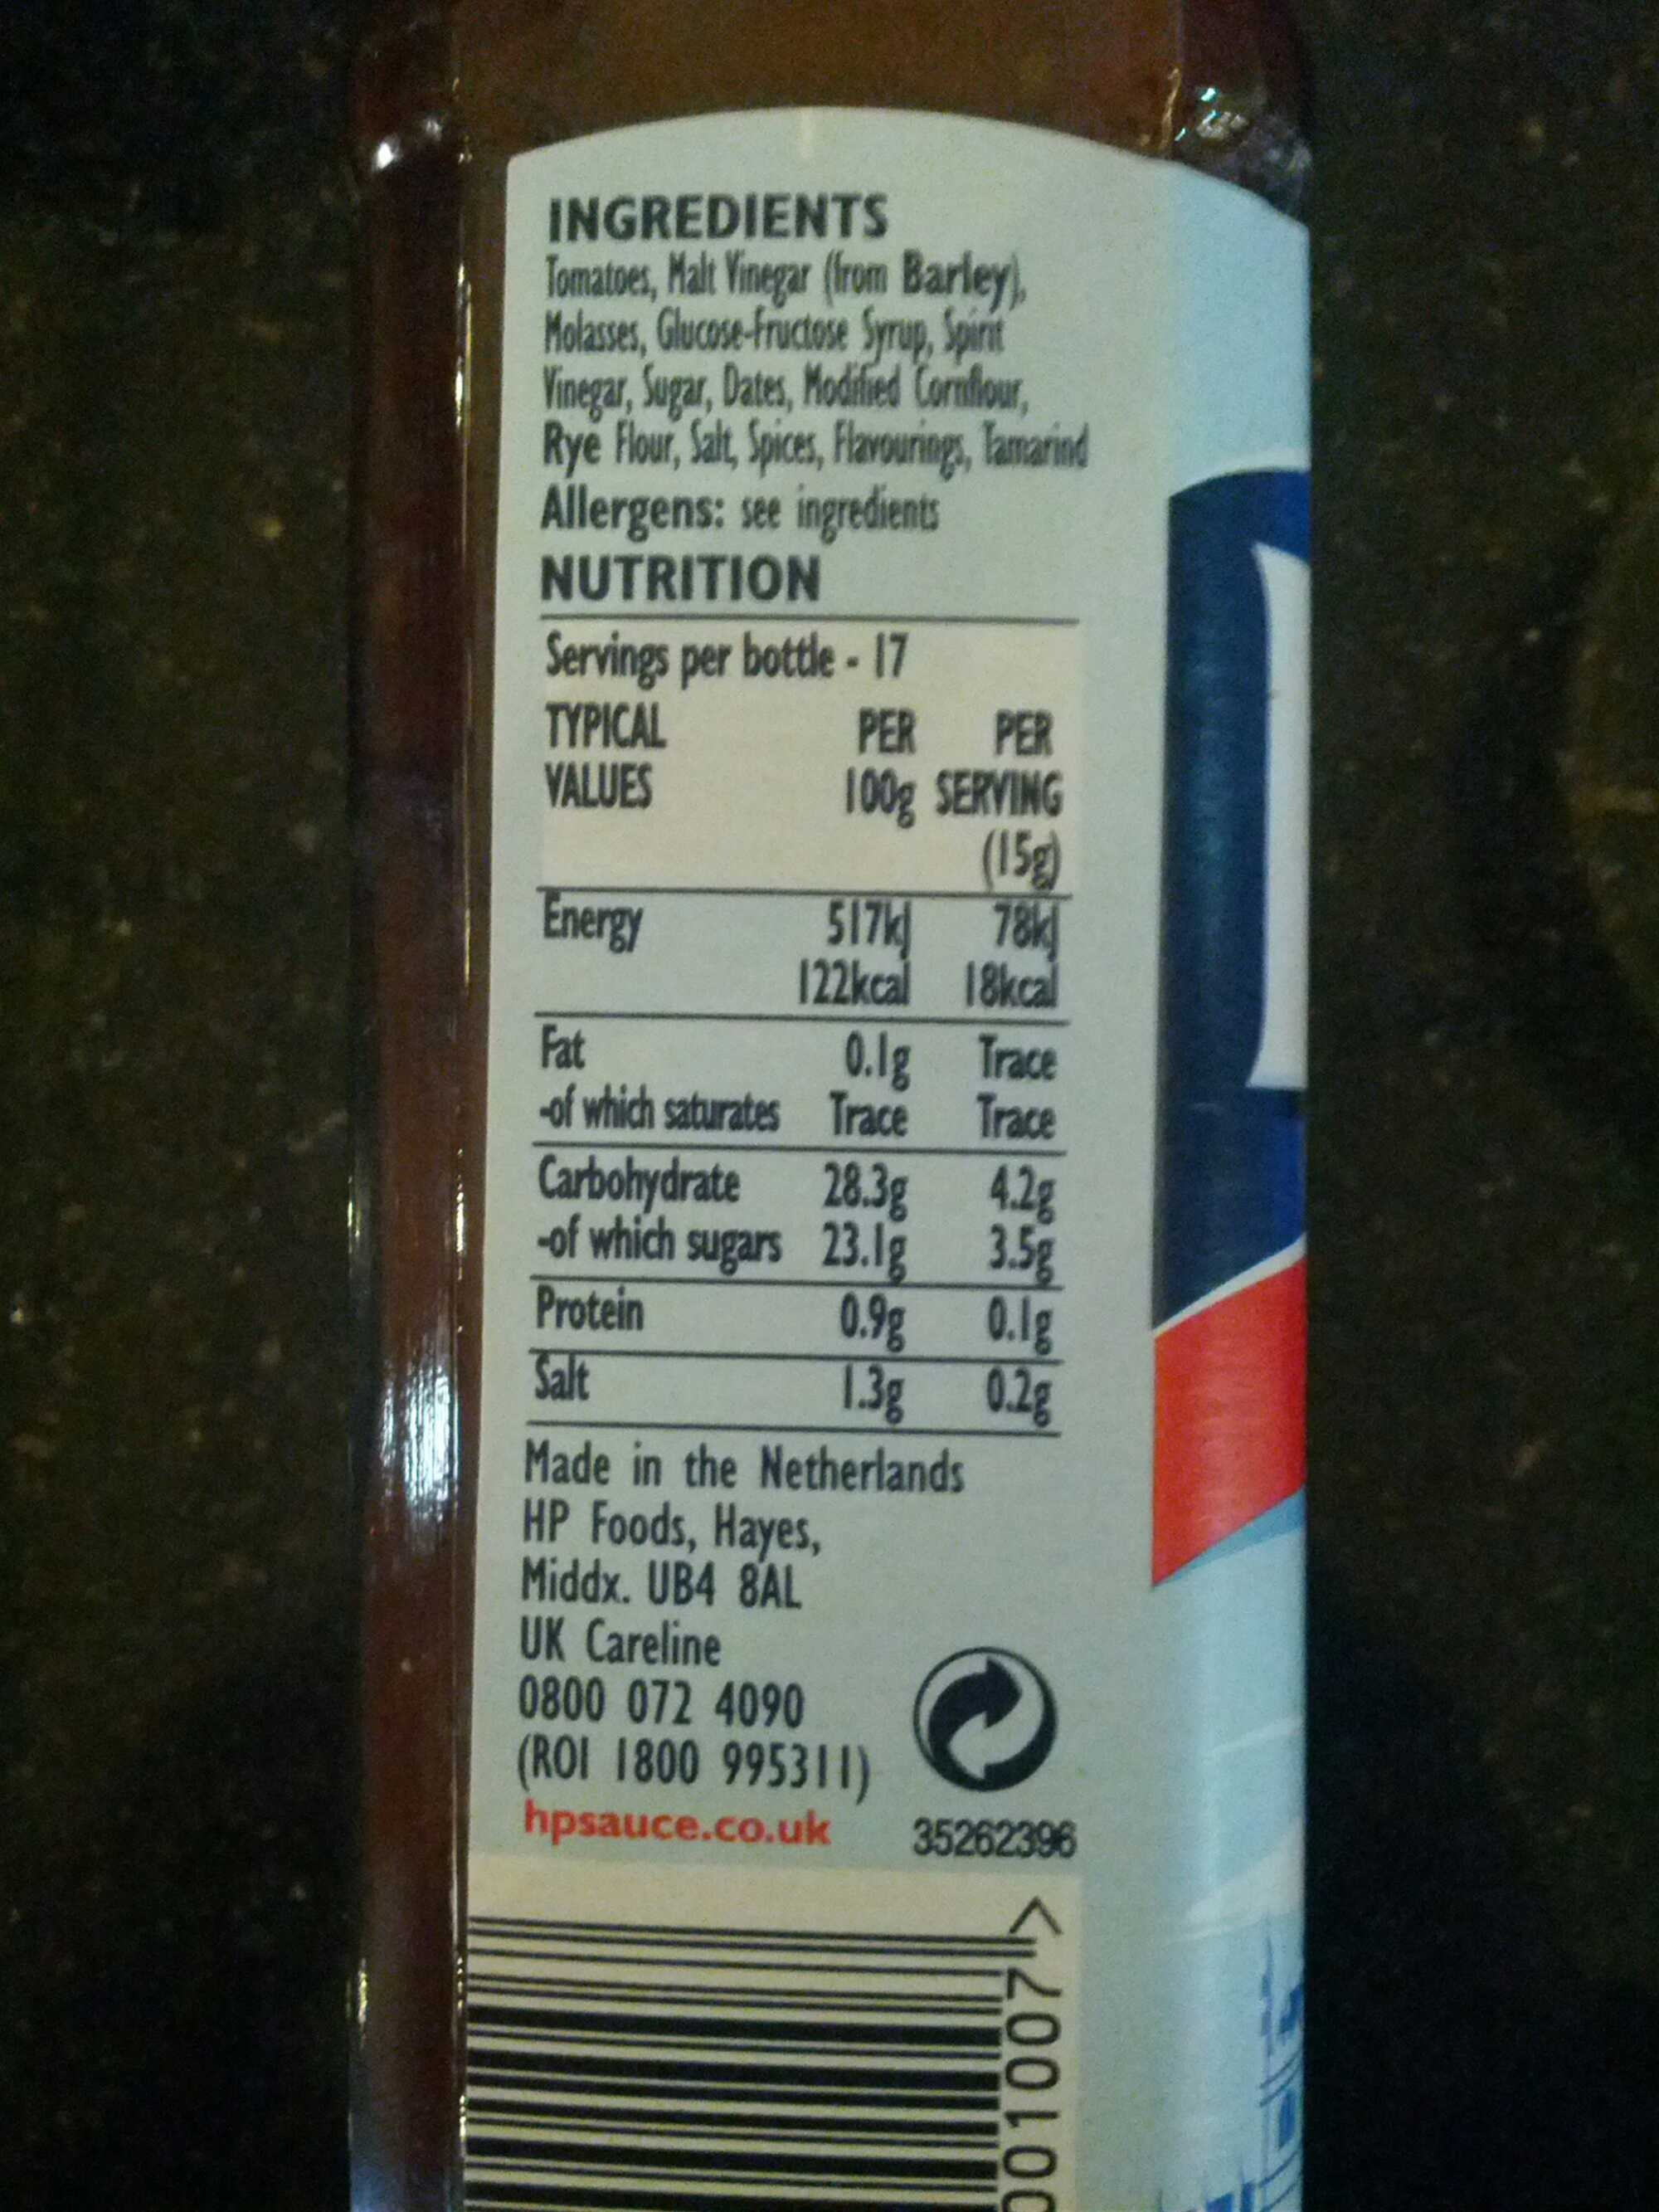column: (535, 704, 782, 1414), (936, 709, 1070, 1426), (796, 702, 918, 1426)
table: (528, 542, 1082, 1447)
